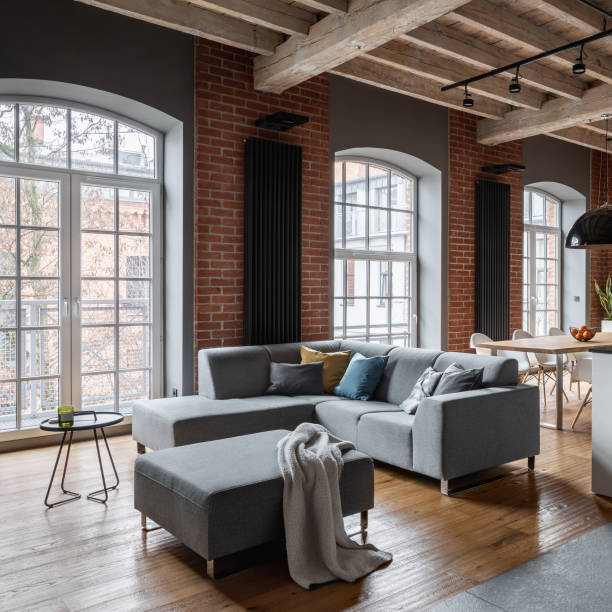chair: (121, 426, 375, 580)
dining table set: (461, 316, 612, 432)
sofa: (128, 338, 543, 498)
table: (37, 406, 125, 508)
